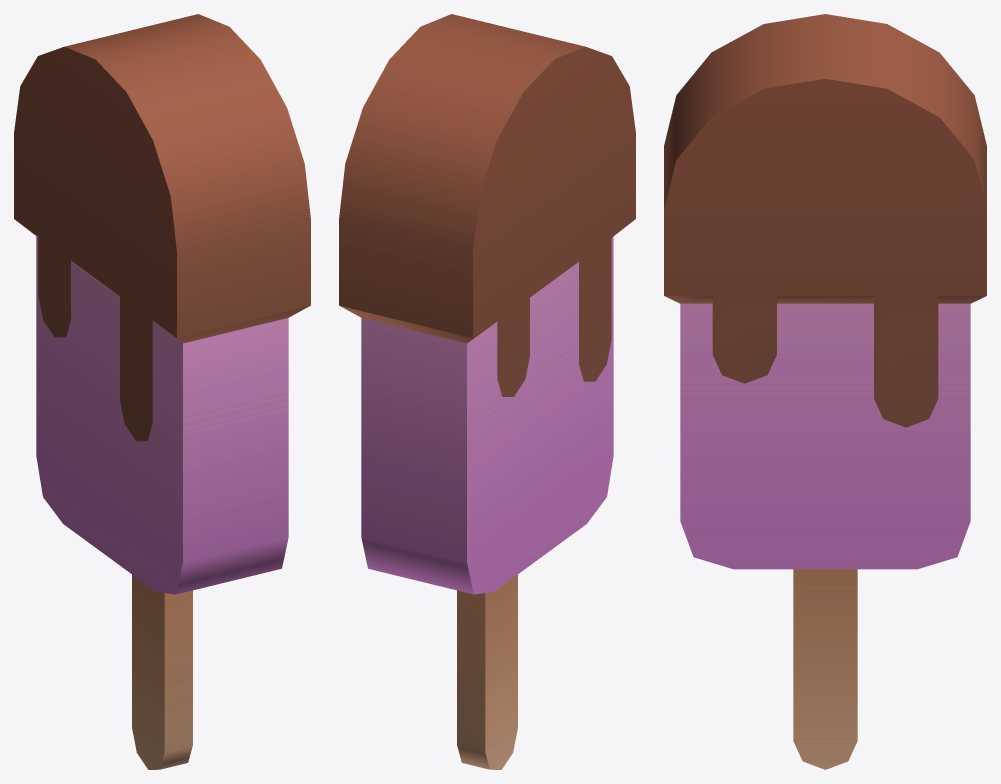
The model's file is popsicle-chocolate.glb.
3 views of the same model, side by side, from view 1: azimuth 30°, elevation 25°; view 2: azimuth 150°, elevation 25°; view 3: azimuth 270°, elevation 25° (orthographic).
Visible parts, largest first — view 1: popsicle-chocolate; view 2: popsicle-chocolate; view 3: popsicle-chocolate.
Boxes of the visible parts, x1,y1,x2,y2 form: popsicle-chocolate: [14, 14, 310, 769]; popsicle-chocolate: [339, 14, 635, 769]; popsicle-chocolate: [664, 14, 986, 769].
Bounding box in the file's own units: 0.095 × 0.49 × 0.2.
Materials: 1 (1 with a texture image).
